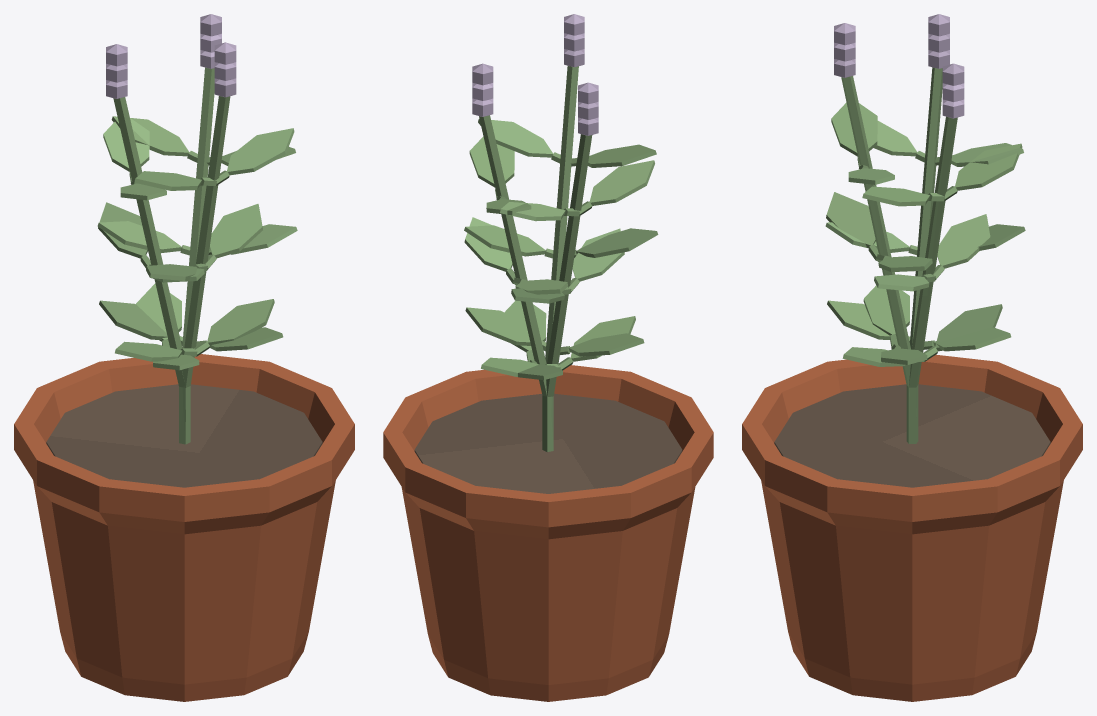
File: sage.glb
3 views of the same model, side by side, from view 1: azimuth 30°, elevation 25°; view 2: azimuth 150°, elevation 25°; view 3: azimuth 270°, elevation 25° (orthographic). The views are drawn at different scales.
Visible parts, largest first — view 1: sage/review-terra-vessel, sage/review-rooted-soil, sage/stem-017, sage/stem-001, sage/stem-033, sage/leaf-025, sage/leaf-029, sage/leaf-021, sage/leaf-037, sage/leaf-041, sage/leaf-011, sage/leaf-045 (+8 smaller); view 2: sage/review-terra-vessel, sage/review-rooted-soil, sage/stem-001, sage/stem-033, sage/stem-017, sage/leaf-013, sage/leaf-021, sage/leaf-029, sage/leaf-023, sage/leaf-025, sage/leaf-043, sage/leaf-019 (+10 smaller); view 3: sage/review-terra-vessel, sage/review-rooted-soil, sage/stem-017, sage/stem-033, sage/stem-001, sage/leaf-041, sage/leaf-023, sage/leaf-045, sage/leaf-037, sage/leaf-027, sage/leaf-019, sage/leaf-005 (+11 smaller).
Boxes of the visible parts, x1,y1,x2,y2 form: sage/review-terra-vessel: [14, 354, 354, 701]; sage/review-rooted-soil: [46, 384, 322, 487]; sage/stem-017: [179, 96, 230, 444]; sage/stem-001: [113, 97, 185, 439]; sage/stem-033: [182, 67, 214, 444]; sage/leaf-025: [210, 204, 262, 258]; sage/leaf-029: [227, 128, 294, 175]; sage/leaf-021: [207, 299, 274, 345]; sage/leaf-037: [99, 300, 167, 339]; sage/leaf-041: [97, 221, 181, 252]; sage/leaf-011: [103, 118, 149, 171]; sage/leaf-045: [111, 116, 189, 156]; sage/review-terra-vessel: [383, 365, 713, 701]; sage/review-rooted-soil: [414, 393, 682, 493]; sage/stem-001: [542, 134, 592, 451]; sage/stem-033: [479, 115, 553, 451]; sage/stem-017: [545, 66, 578, 446]; sage/leaf-013: [589, 160, 654, 205]; sage/leaf-021: [465, 307, 530, 345]; sage/leaf-029: [478, 118, 553, 157]; sage/leaf-023: [576, 228, 658, 257]; sage/leaf-025: [464, 225, 545, 256]; sage/leaf-043: [469, 136, 514, 187]; sage/leaf-019: [568, 333, 644, 356]; sage/review-terra-vessel: [742, 354, 1082, 701]; sage/review-rooted-soil: [774, 384, 1050, 487]; sage/stem-017: [841, 76, 916, 443]; sage/stem-033: [906, 116, 957, 443]; sage/stem-001: [910, 67, 942, 443]; sage/leaf-041: [937, 214, 990, 268]; sage/leaf-023: [826, 192, 875, 248]; sage/leaf-045: [955, 143, 1022, 190]; sage/leaf-037: [935, 304, 1002, 351]; sage/leaf-027: [831, 102, 877, 156]; sage/leaf-019: [863, 285, 909, 335]; sage/leaf-005: [827, 300, 889, 339].
Bounding box in the file's own units: 0.19 × 0.389 × 0.19.
4 materials, 4 textured.
